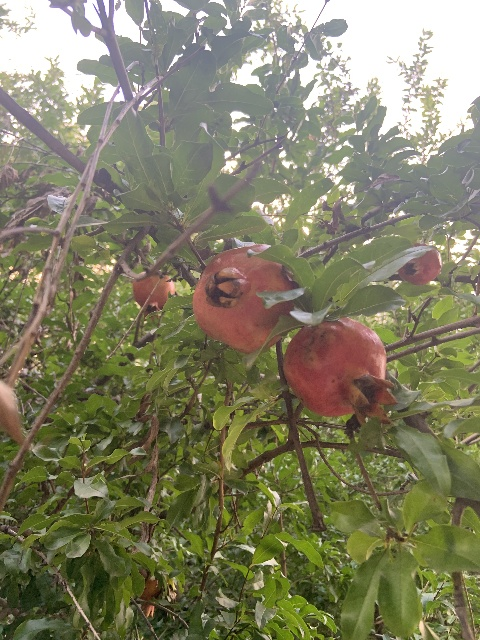ripe: (283, 317, 397, 426), (192, 243, 297, 353), (132, 271, 175, 322), (397, 242, 440, 284), (139, 568, 162, 617)
